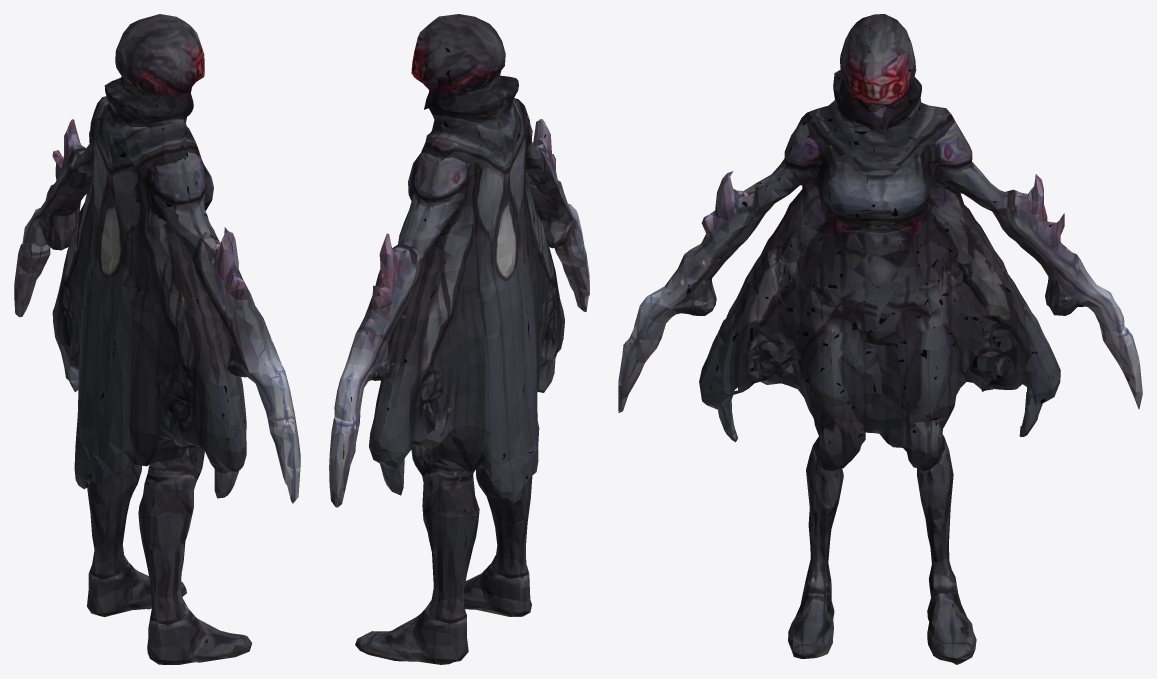
Rendered from monster_cat_3.glb.
3 renders of one model, left to right at view 1: azimuth 30°, elevation 25°; view 2: azimuth 150°, elevation 25°; view 3: azimuth 270°, elevation 25°, orthographic.
Parts seen in each view (by area): view 1: zzzz8; view 2: zzzz8; view 3: zzzz8.
Boxes of the visible parts, box(x1,y1,x2,y2) form: zzzz8: box(14, 14, 300, 664); zzzz8: box(329, 14, 589, 664); zzzz8: box(618, 14, 1142, 664).
Bounding box in the file's own units: 0.5457 × 2.42 × 1.87.
1 material, 1 textured.
